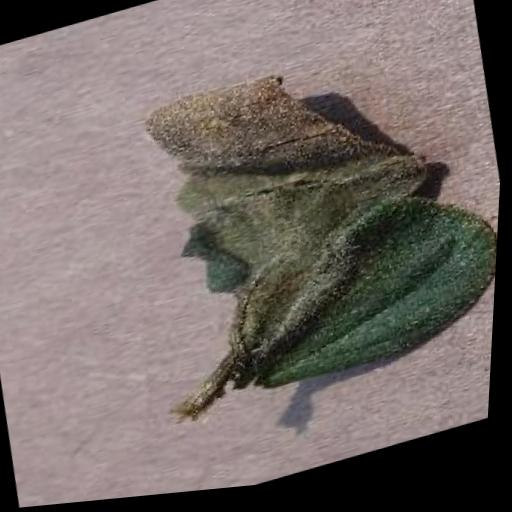Late Blight: (131, 15, 510, 433)
